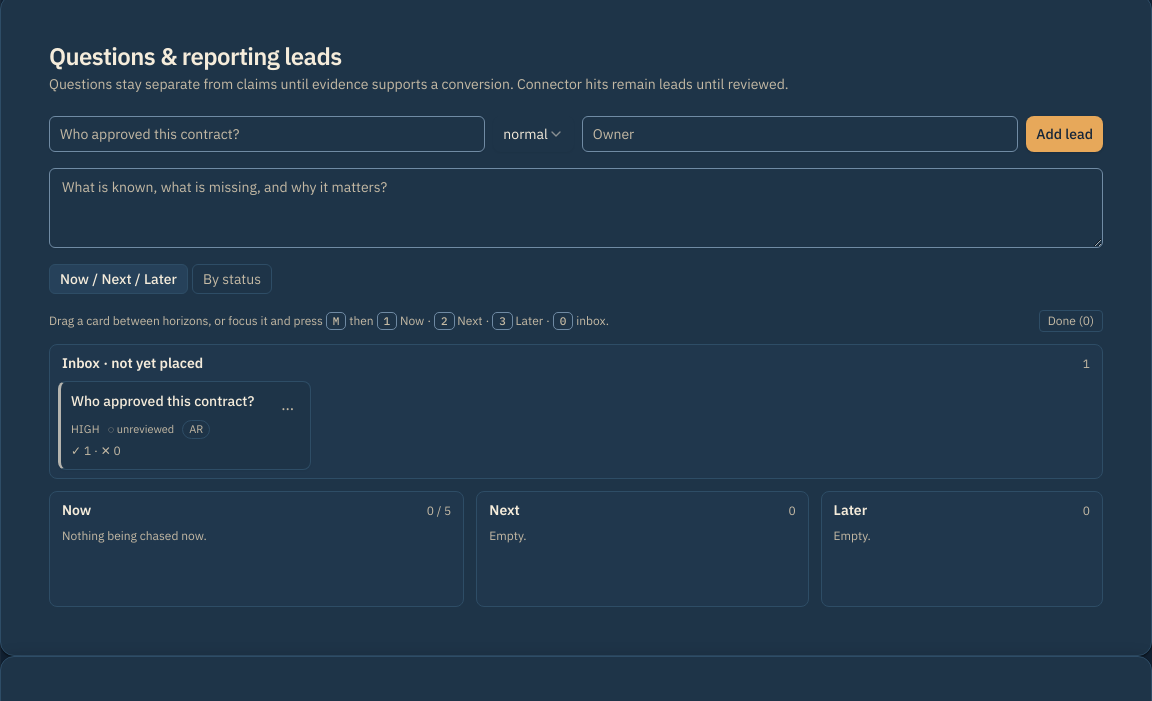
Test: LeadsPanel › converts a lead to a claim and marks both the queue and the claims stale
Expected: the text "Who approved this contract?" is shown, [71, 392, 267, 411]
Click the button "By status". click: (232,279)
box: [192, 264, 272, 294]
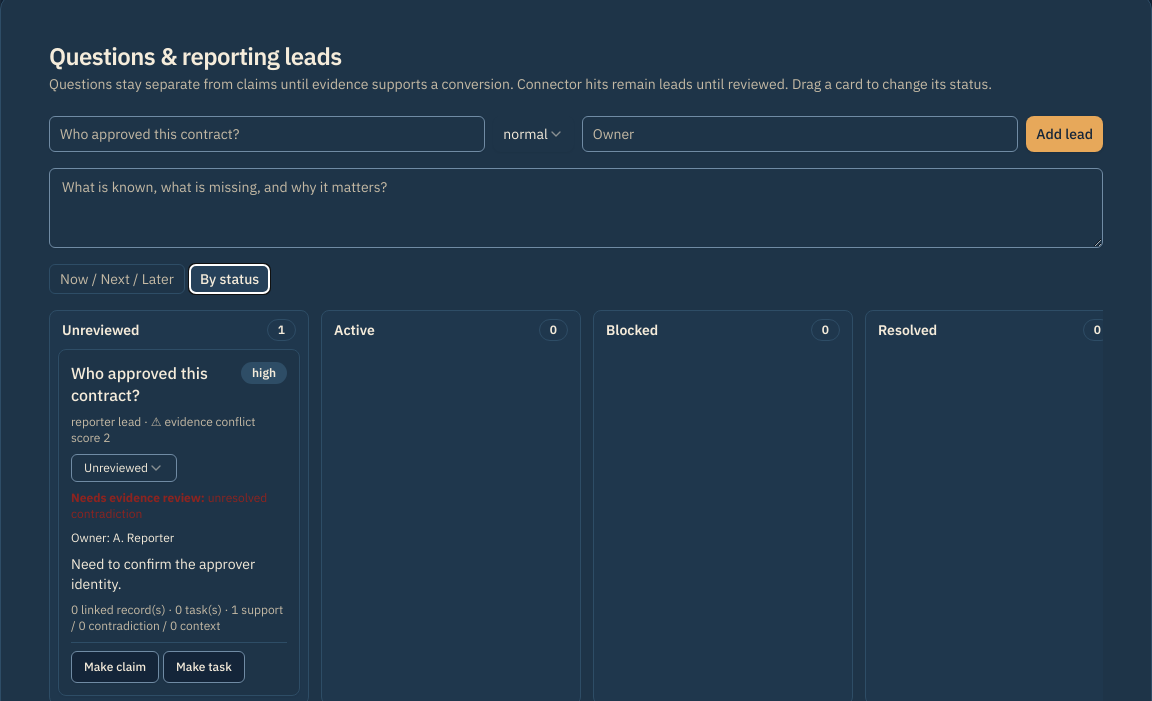
Click the button "Make claim". click: (115,667)
box: [71, 651, 159, 683]
(page scrolled)
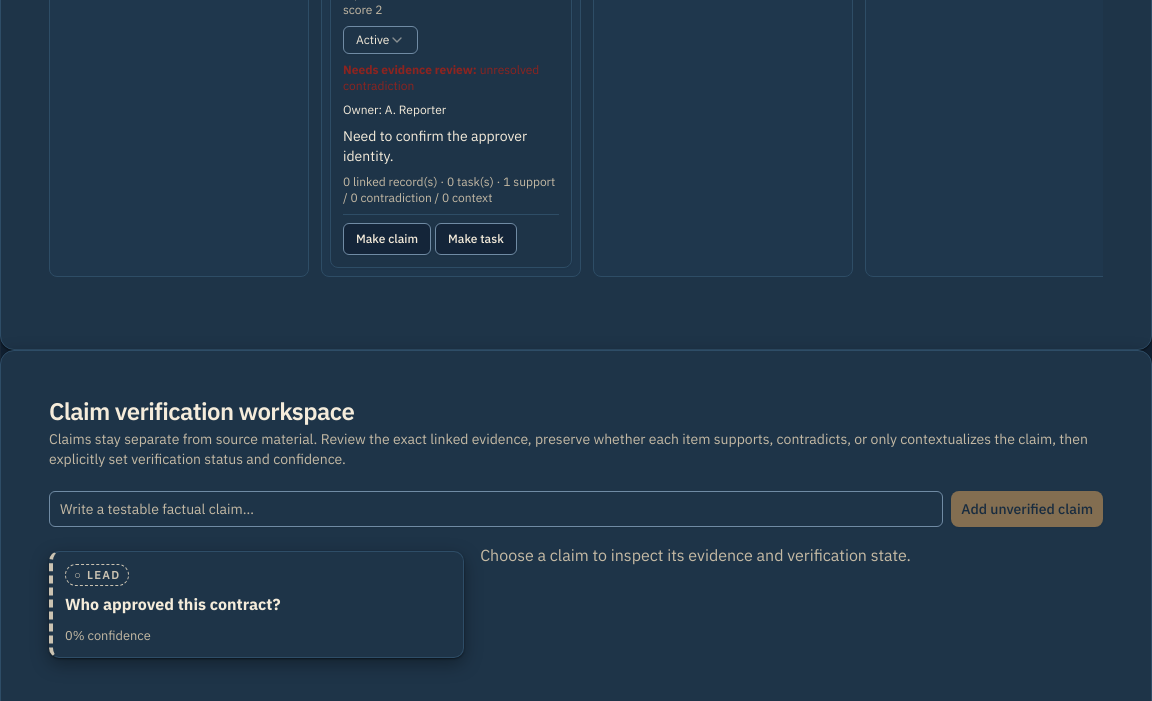
Expected: the text "0% confidence" is shown, [65, 627, 151, 644]
